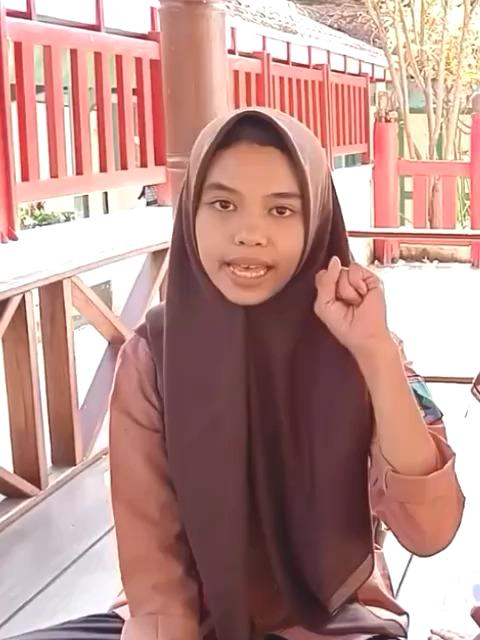S: (304, 256, 394, 344)
